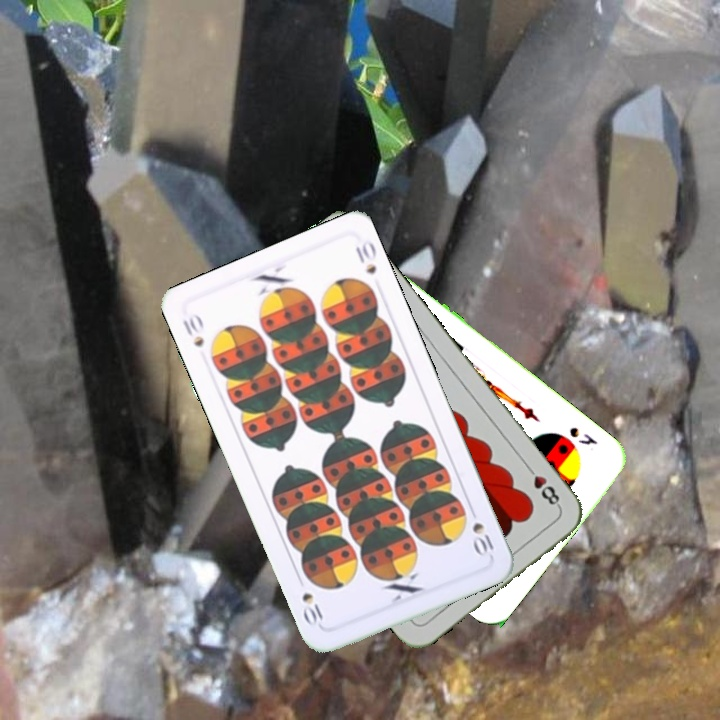H8: (521, 460, 563, 511)
S10: (465, 502, 499, 559), (178, 309, 207, 350)
SK: (565, 422, 601, 448)
